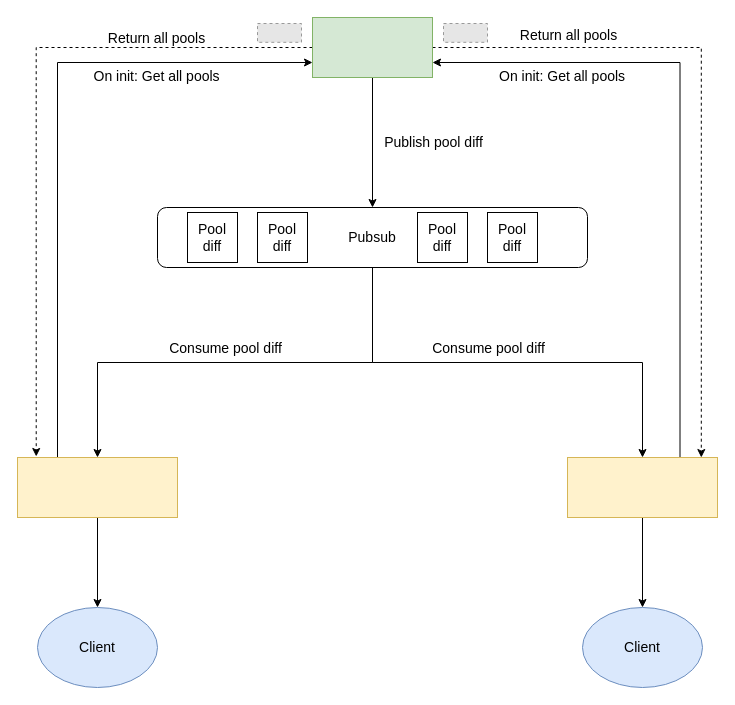
The diagram is 735 pixels wide and 705 high, and some of its shapes have lost their labels. Grey dashed boxes stand in for pictures. Each missing label, with the centre of its shape:
Finding Route Service: the point at 97,487
Pool Service: the point at 372,47
Token/Price Service: the point at 642,487
